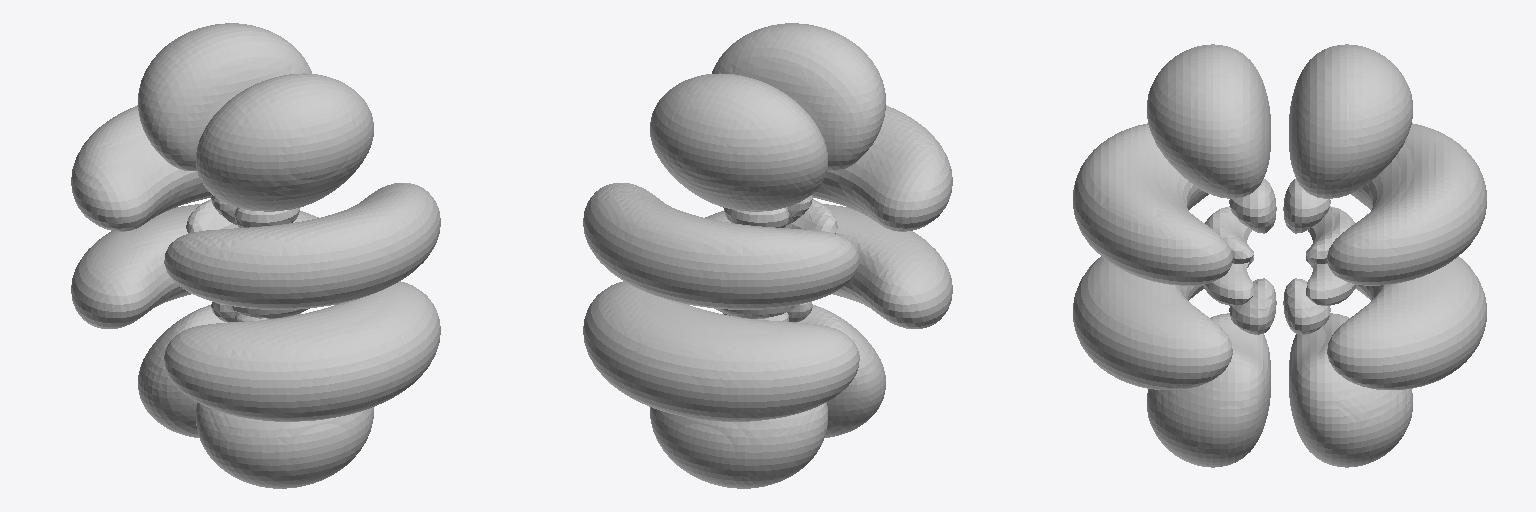
Rendered from orb_n=6_ l=4 _m=-1.obj.
3 renders of one model, left to right at view 1: azimuth 30°, elevation 25°; view 2: azimuth 150°, elevation 25°; view 3: azimuth 270°, elevation 25°, orthographic.
Visible parts, largest first — view 1: orb_n=6__l=4__m=-1; view 2: orb_n=6__l=4__m=-1; view 3: orb_n=6__l=4__m=-1.
Boxes of the visible parts, <box> form: orb_n=6__l=4__m=-1: <box>71,23,440,488</box>; orb_n=6__l=4__m=-1: <box>583,23,952,488</box>; orb_n=6__l=4__m=-1: <box>1073,44,1486,467</box>.
Bounding box in the file's own units: 96.02 × 143 × 133.